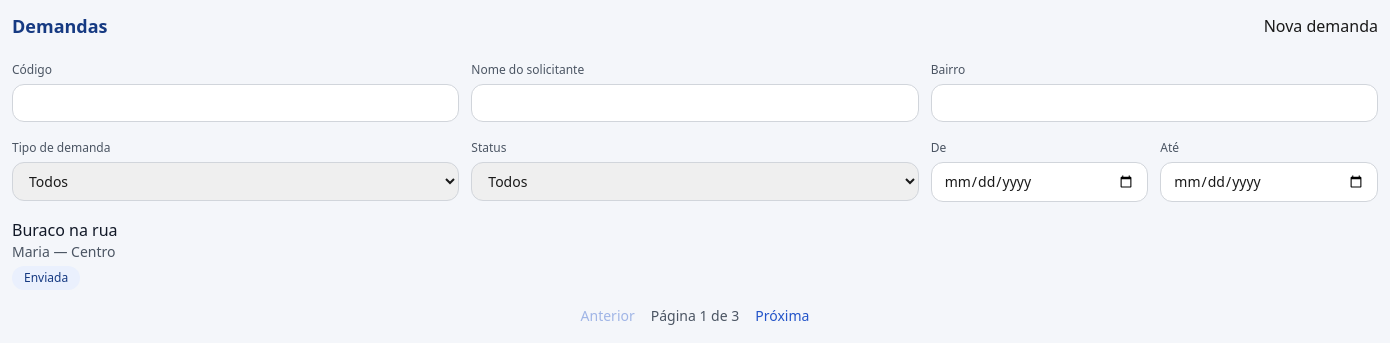
DemandasPage — lista sem internet › não guarda cópia da página 2, mesmo sem nenhum filtro
This screenshot has width=1390, height=343.
Click the button "Próxima".
click(782, 316)  # box [755,306,809,326]
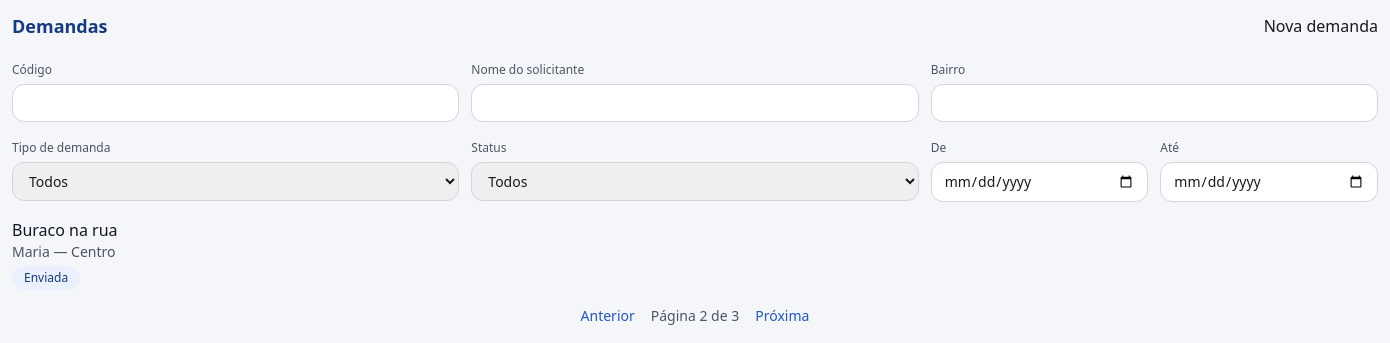
Check: the text "Página 2 de 3" is shown, box [651,306,739,326]
Click the button "Anterior".
click(608, 316)  # box [581,306,635,326]
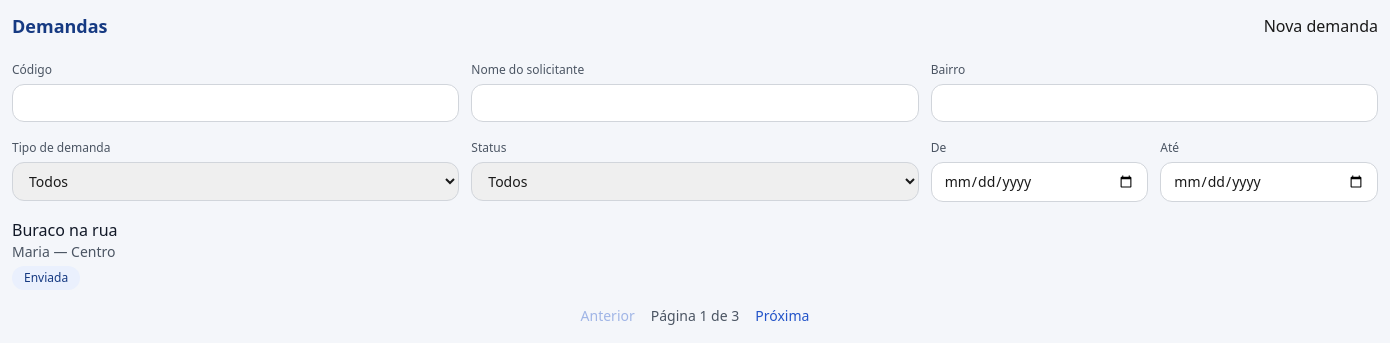
Click the button "Próxima".
click(782, 316)  # box [755,306,809,326]
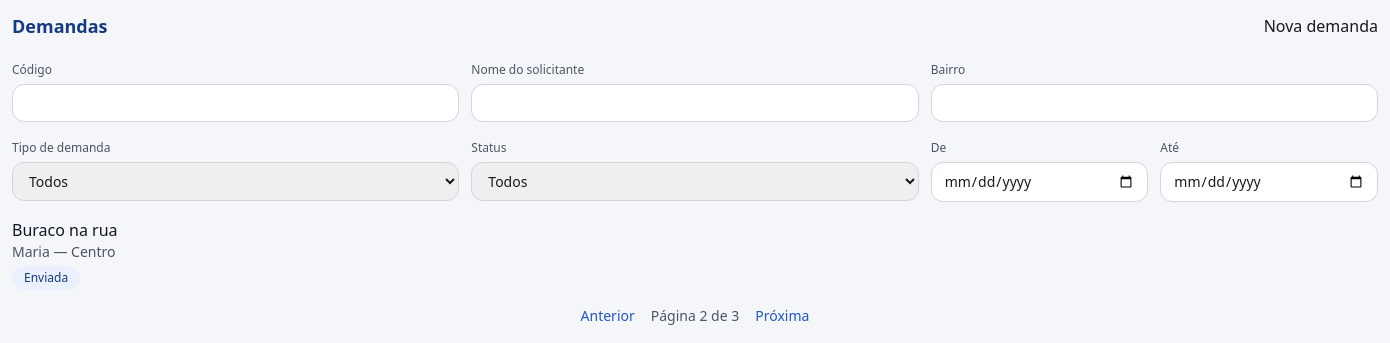
Check: the text "Página 2 de 3" is shown, box [651,306,739,326]
